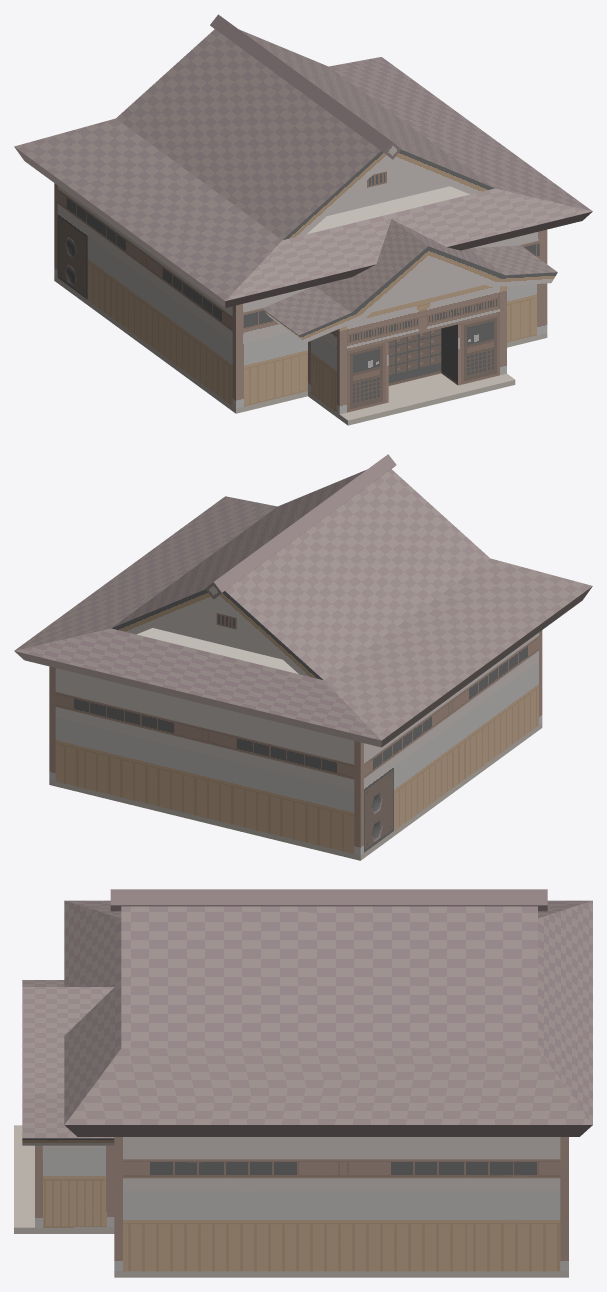
The model's file is 04f1_Bathhouse.glb.
The picture shows the model from 3 angles, top to bottom: view 1: azimuth 30°, elevation 25°; view 2: azimuth 150°, elevation 25°; view 3: azimuth 270°, elevation 25°; orthographic projection. The views are drawn at different scales.
Visible parts, largest first — view 1: part_0; view 2: part_0; view 3: part_0.
Boxes of the visible parts, x1,y1,x2,y2 form: part_0: [14, 14, 592, 425]; part_0: [14, 454, 592, 860]; part_0: [14, 889, 592, 1277].
Size of the model in its own units: 13.44 by 8.2 by 14.66.
Materials: 1 (1 with a texture image).
